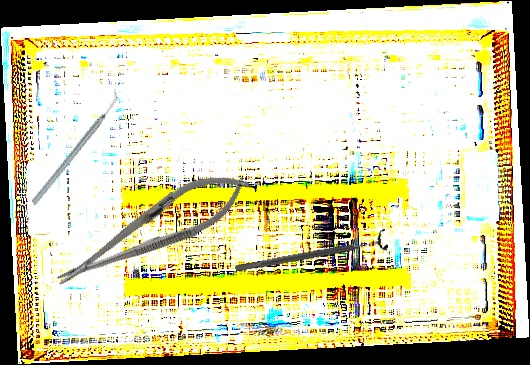Chopper: (3, 88, 147, 207)
Fixation Ring: (233, 227, 389, 281)
Needle Holder: (45, 156, 259, 304)
